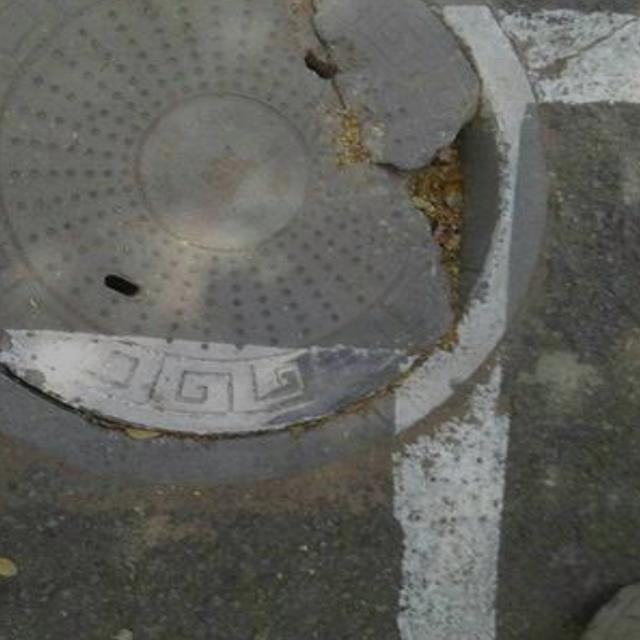broke: (0, 0, 567, 478)
